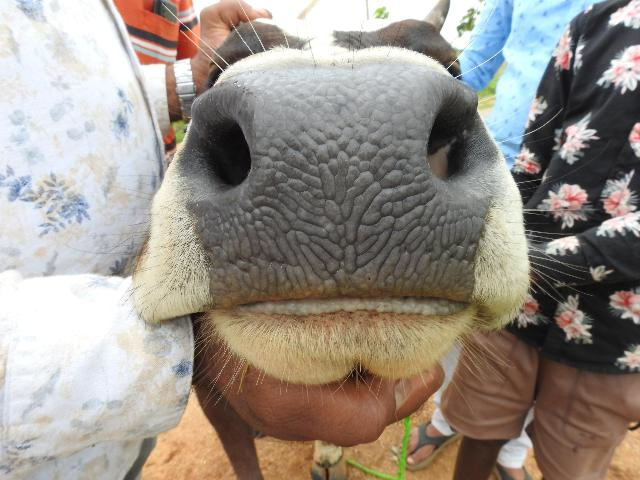Muzzle: (227, 80, 446, 280)
